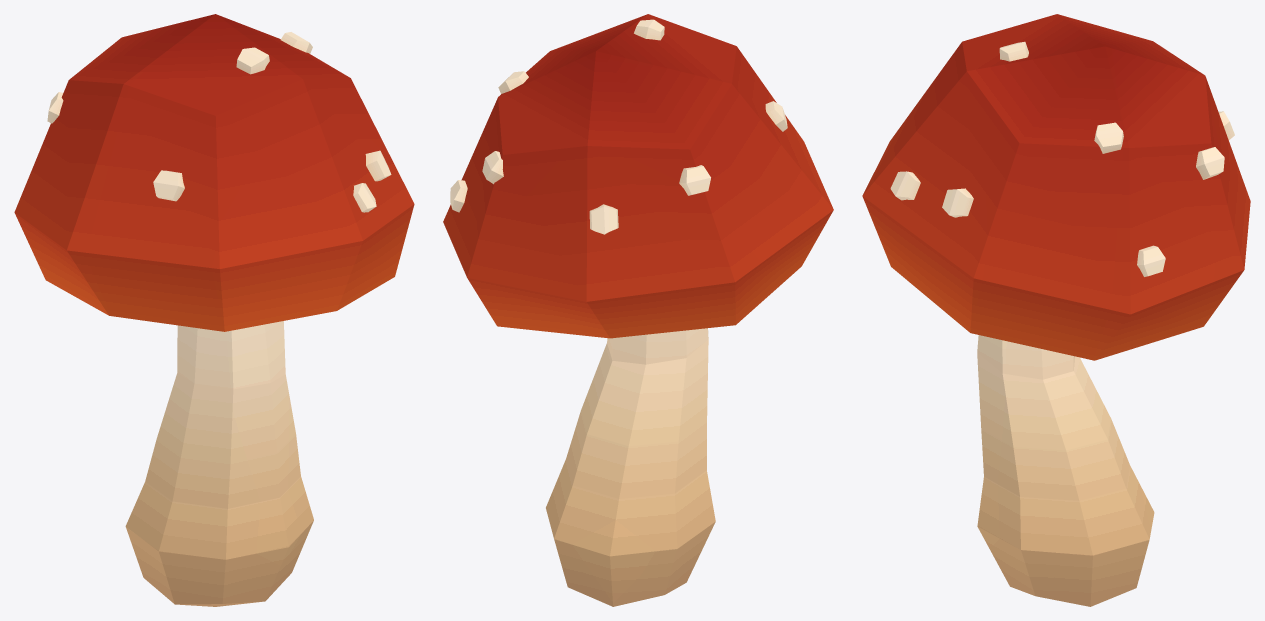
Rendered from Small_FlyAgaric.glb.
3 renders of one model, left to right at view 1: azimuth 30°, elevation 25°; view 2: azimuth 150°, elevation 25°; view 3: azimuth 270°, elevation 25°, orthographic. The views are drawn at different scales.
Visible parts, largest first — view 1: Small; view 2: Small; view 3: Small.
Boxes of the visible parts, <box> form: Small: <box>14,14,414,606</box>; Small: <box>443,14,833,606</box>; Small: <box>862,14,1250,606</box>.
Size of the model in its own units: 1.73 by 2.78 by 1.74.
Materials: 1 (1 with a texture image).
